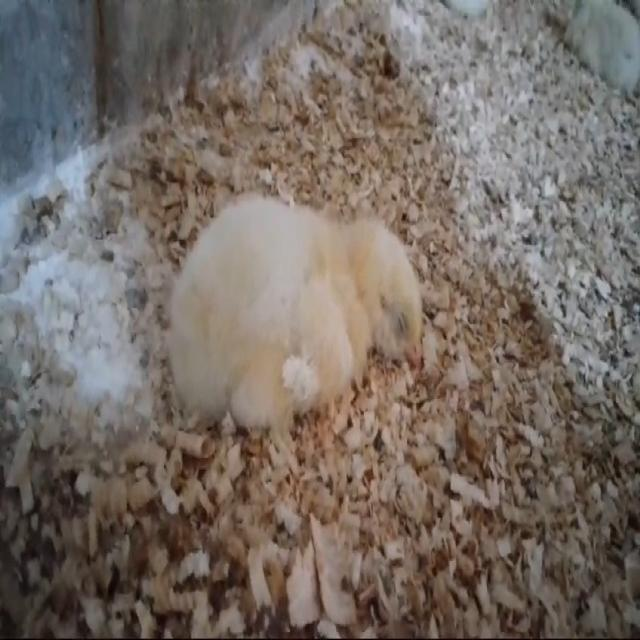dead: (150, 149, 439, 434)
